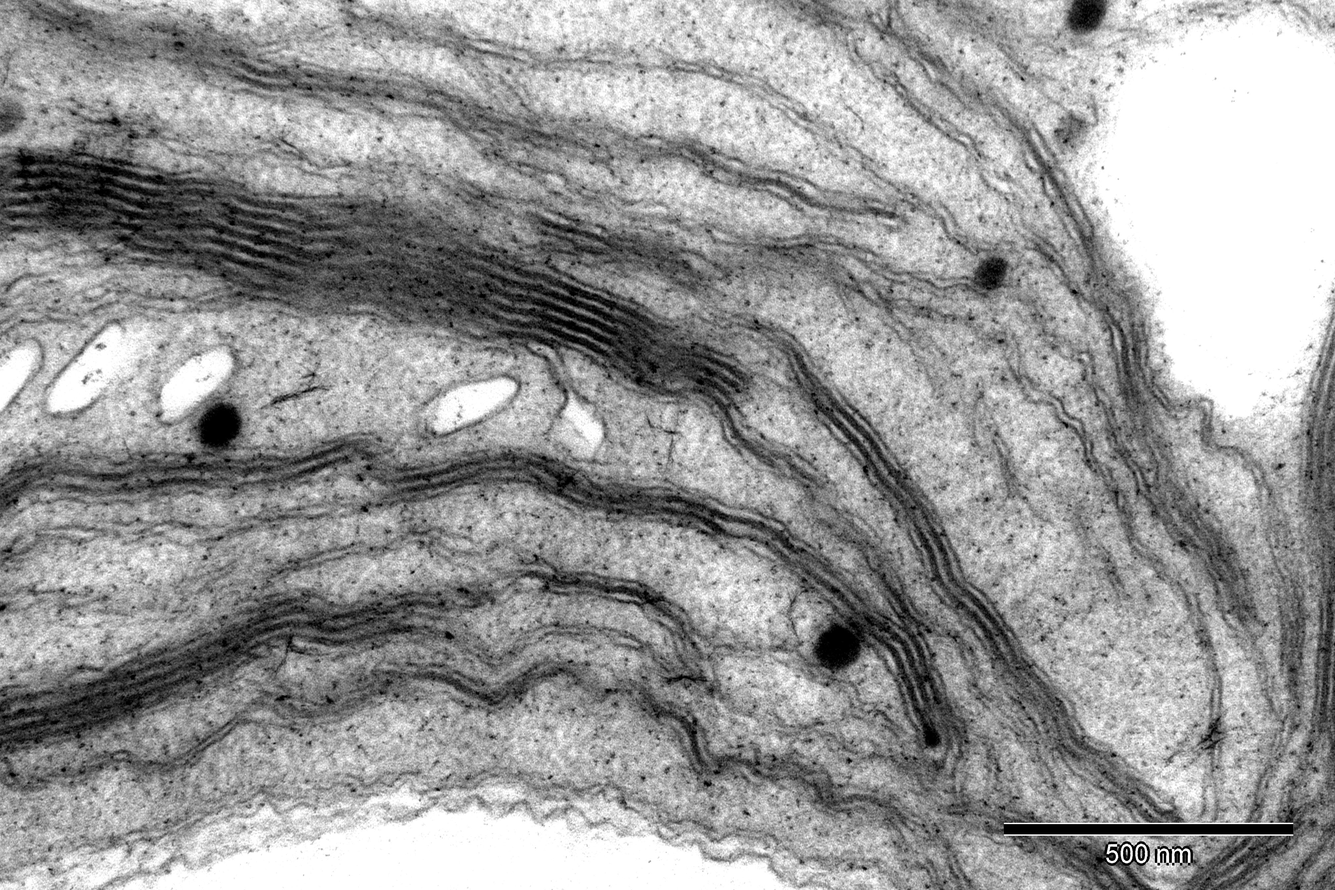granum: (0, 144, 755, 418), (378, 439, 972, 767), (808, 380, 1187, 831), (3, 578, 484, 758), (8, 0, 495, 142), (1105, 406, 1268, 639), (0, 438, 303, 538), (527, 194, 699, 300), (1291, 297, 1335, 607), (996, 814, 1165, 890), (1173, 816, 1307, 890), (1104, 318, 1165, 405)
